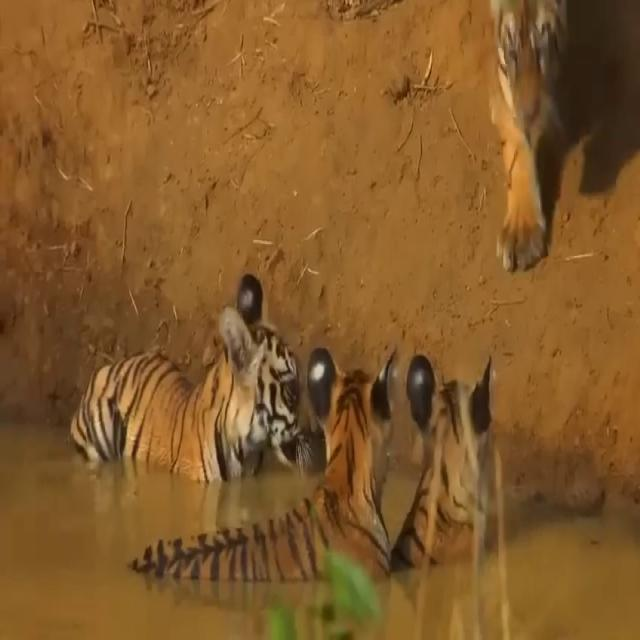tiger: (69, 274, 311, 484)
